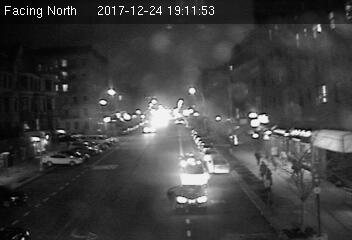car: (168, 182, 208, 210), (177, 151, 202, 168), (207, 158, 230, 175)
